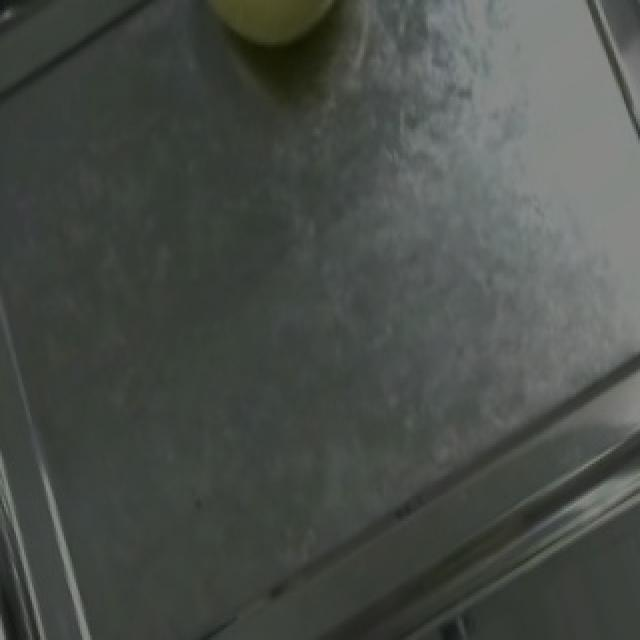Fruit: (166, 0, 388, 82)
